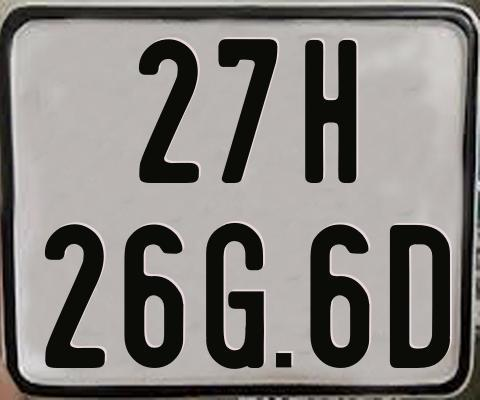2: (139, 36, 204, 180), (45, 222, 106, 372)
6: (122, 224, 187, 370), (307, 223, 370, 373)
7: (218, 38, 282, 185)
D: (388, 222, 450, 371)
G: (203, 223, 263, 374)
H: (304, 38, 357, 182)
